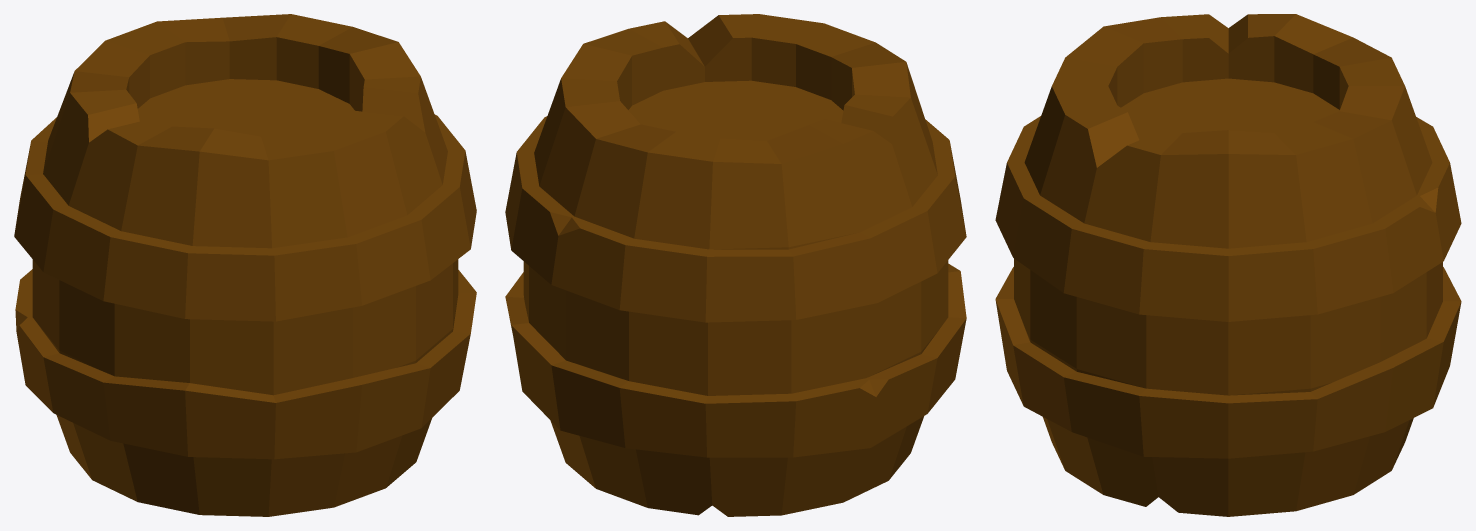
Rendered from Barrel-LowPoly-6_SingleUVs.fbx.
The picture shows the model from 3 angles, left to right: view 1: azimuth 30°, elevation 25°; view 2: azimuth 150°, elevation 25°; view 3: azimuth 270°, elevation 25°; orthographic projection.
Parts seen in each view (by area): view 1: Barrel-2(SeparatedParts), Barrel-2(SeparatedParts).001; view 2: Barrel-2(SeparatedParts), Barrel-2(SeparatedParts).001; view 3: Barrel-2(SeparatedParts), Barrel-2(SeparatedParts).001.
Part boxes in pixels (x1=…): Barrel-2(SeparatedParts): x1=32, y1=14, x2=458, y2=516; Barrel-2(SeparatedParts).001: x1=14, y1=114, x2=476, y2=459; Barrel-2(SeparatedParts): x1=523, y1=14, x2=948, y2=516; Barrel-2(SeparatedParts).001: x1=505, y1=116, x2=966, y2=457; Barrel-2(SeparatedParts): x1=1014, y1=14, x2=1442, y2=516; Barrel-2(SeparatedParts).001: x1=995, y1=116, x2=1461, y2=458.
Size of the model in its own units: 264 by 227 by 264.
